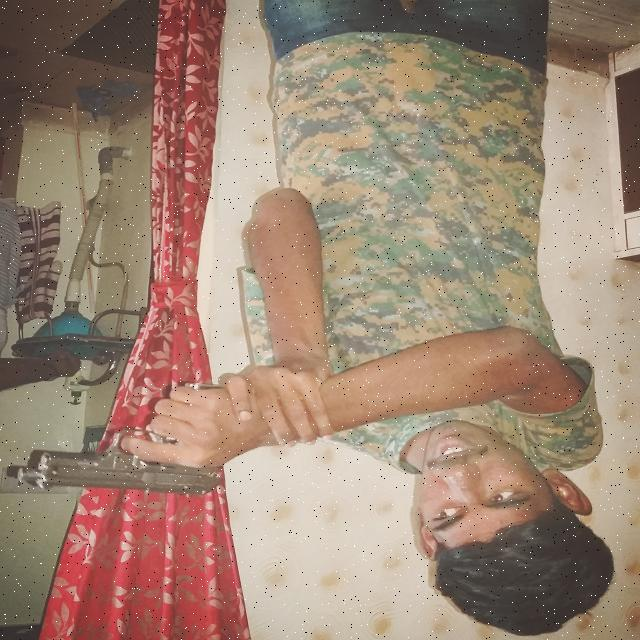gun: (6, 376, 234, 502)
